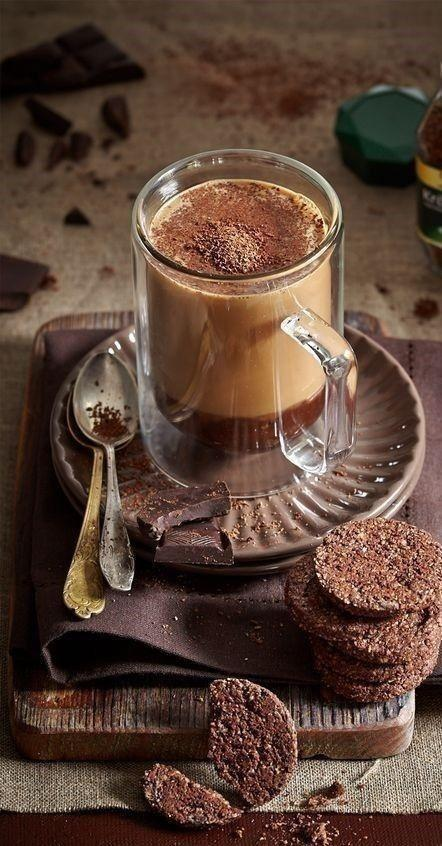glass-mug: (127, 143, 360, 502)
